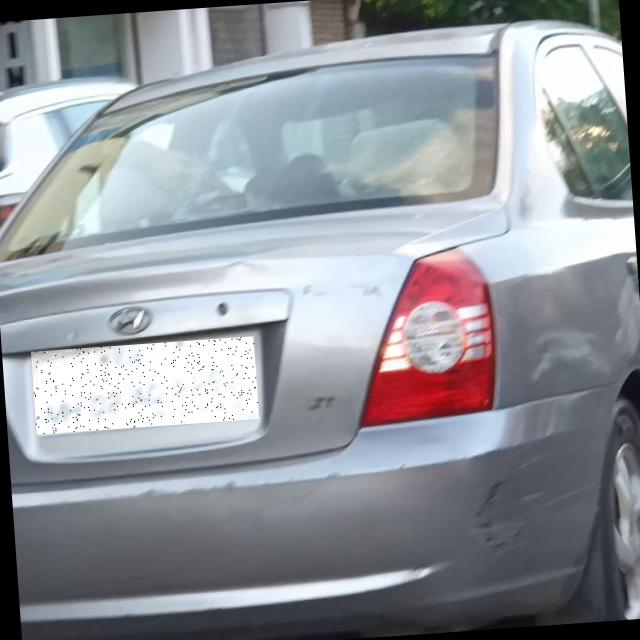Plate: (32, 337, 260, 435)
